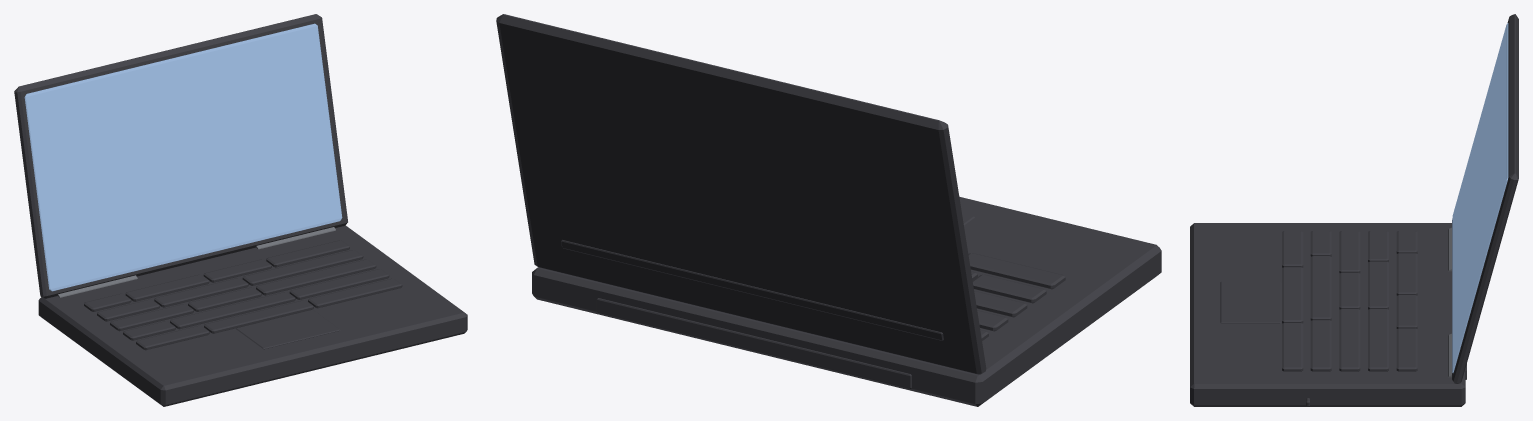
The model's file is computers-and-desk-gadgets-laptop-gaming-17-976ef973.glb.
3 views of the same model, side by side, from view 1: azimuth 30°, elevation 25°; view 2: azimuth 150°, elevation 25°; view 3: azimuth 270°, elevation 25° (orthographic). The views are drawn at different scales.
Visible parts, largest first — view 1: laptop-gaming-17; view 2: laptop-gaming-17; view 3: laptop-gaming-17.
Part boxes in pixels (left/top/right/bottom): laptop-gaming-17: left=14, top=14, right=467, bottom=406; laptop-gaming-17: left=496, top=14, right=1161, bottom=406; laptop-gaming-17: left=1190, top=14, right=1518, bottom=406.
Size of the model in its own units: 0.404 by 0.2645 by 0.3342.
